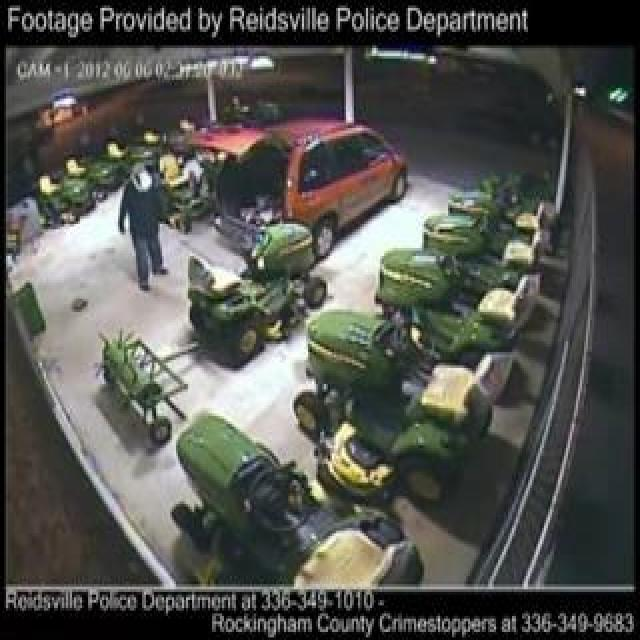thief: (109, 163, 179, 284)
